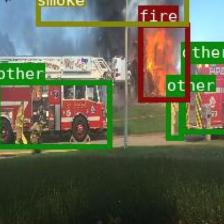fire: (138, 22, 189, 101)
smoke: (35, 0, 187, 25)
